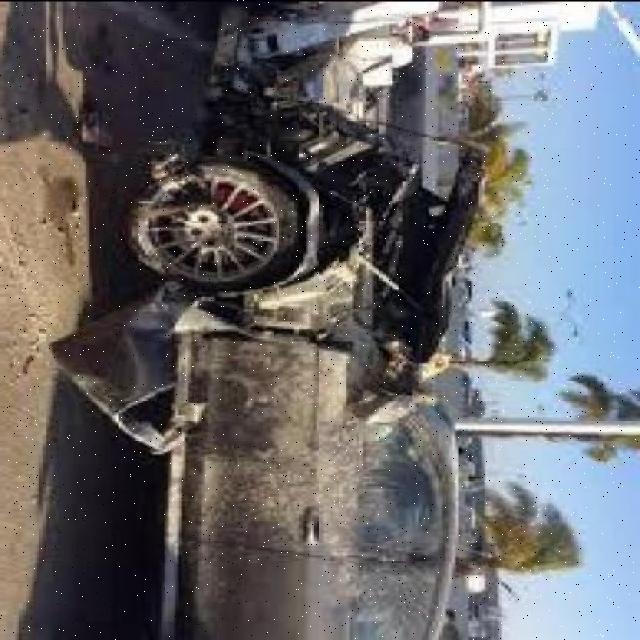damage: (48, 83, 479, 636)
